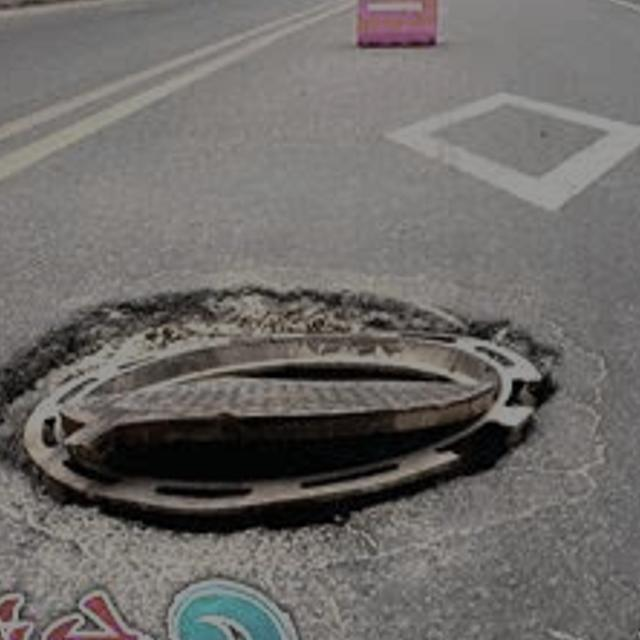circle: (0, 257, 640, 590)
